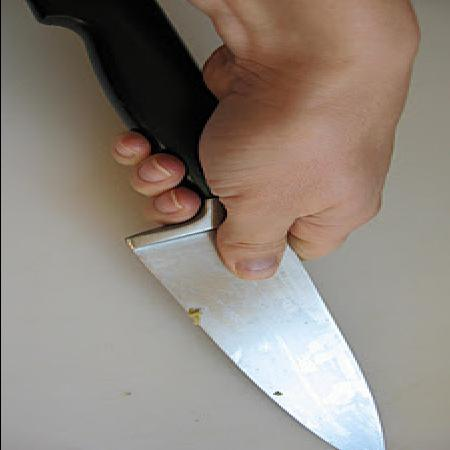long weapon: (86, 167, 404, 448)
